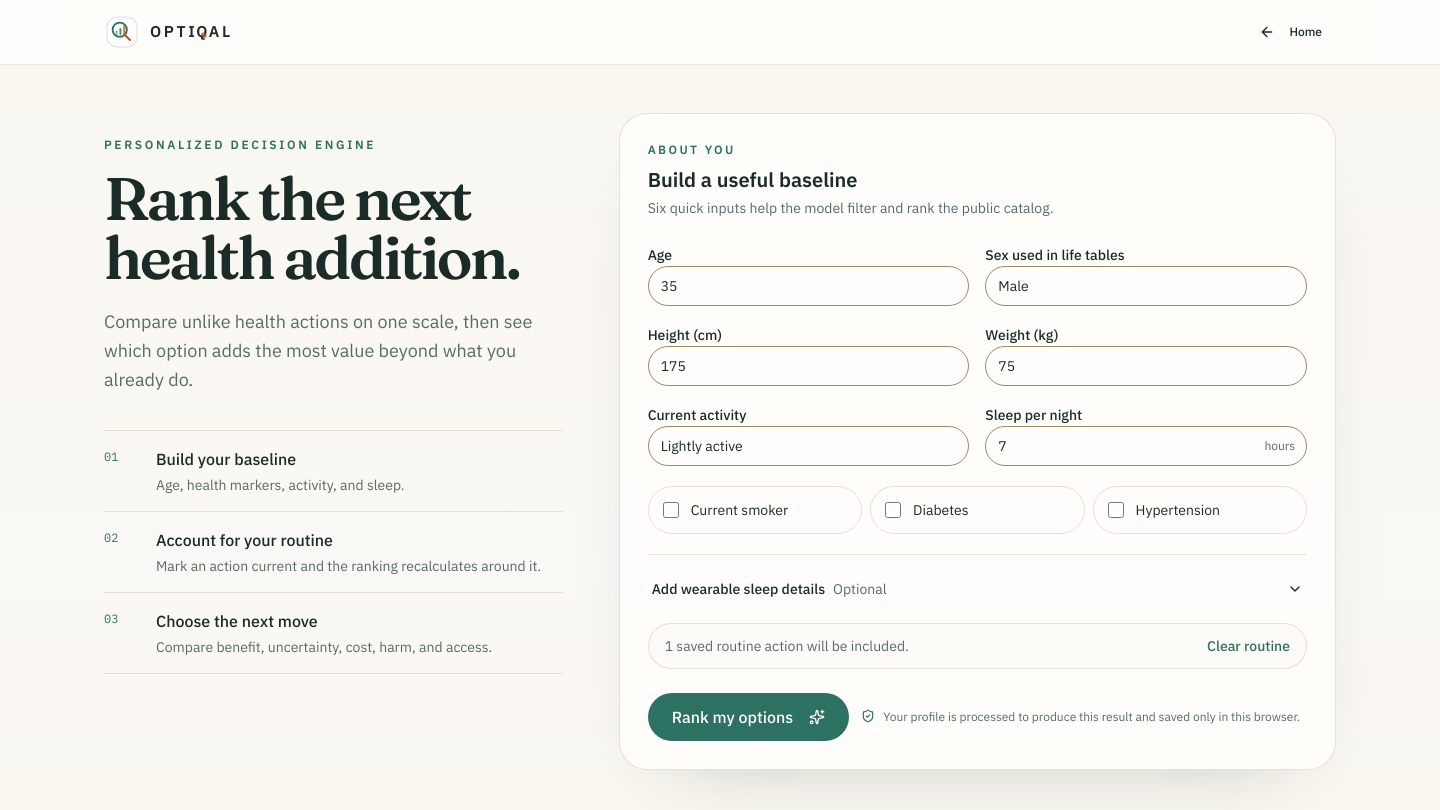
Test: FrontierWorkbench › lets the user clear a stale saved routine before analysis
What coordinates should you click on to do the following:
click the button "Clear routine"
I would click on:
 (1248, 646)
Its box is [1207,636,1290,656].
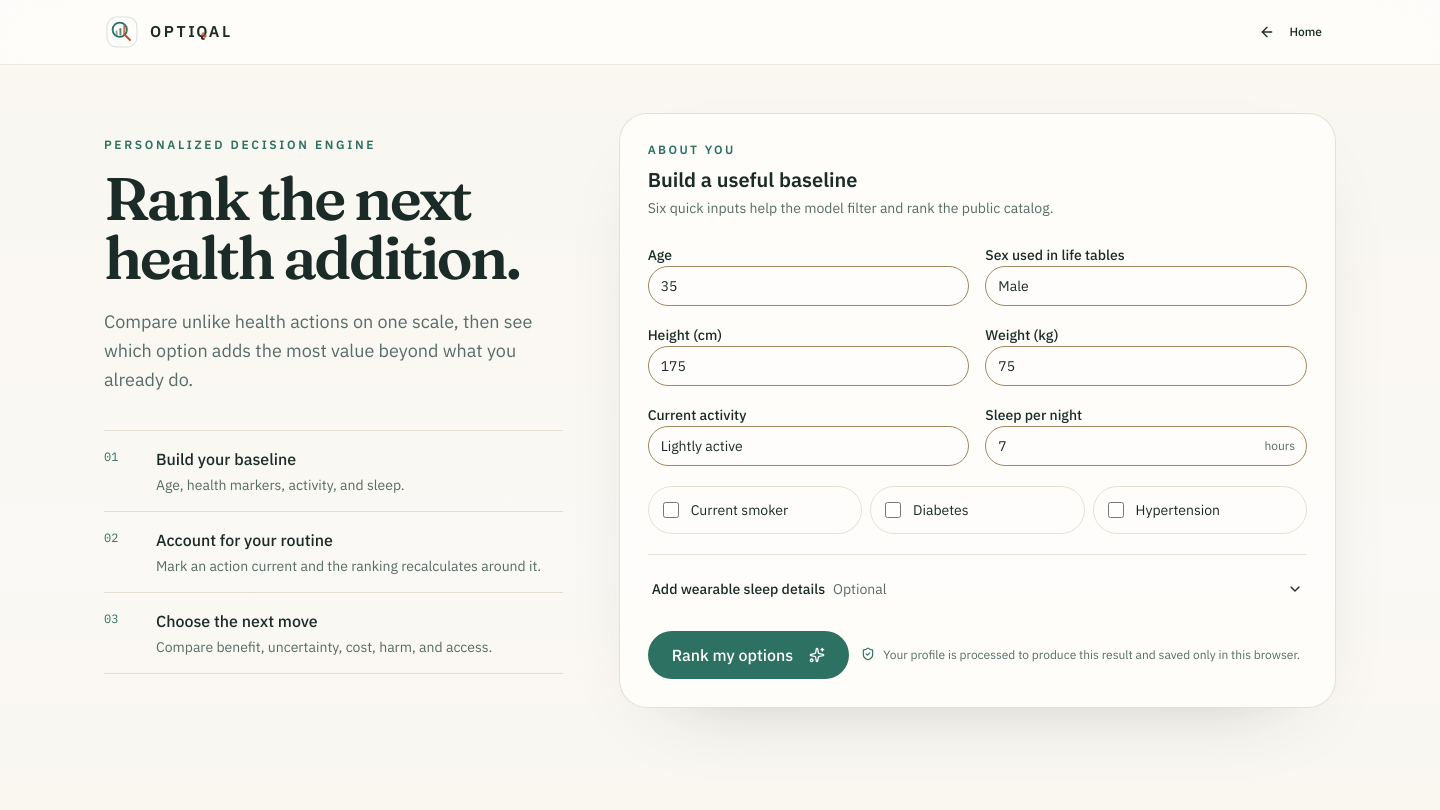
Check: the button "Clear routine" is gone
